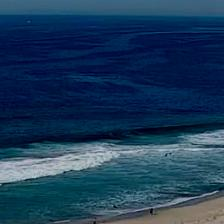surfer: (165, 153, 172, 157)
